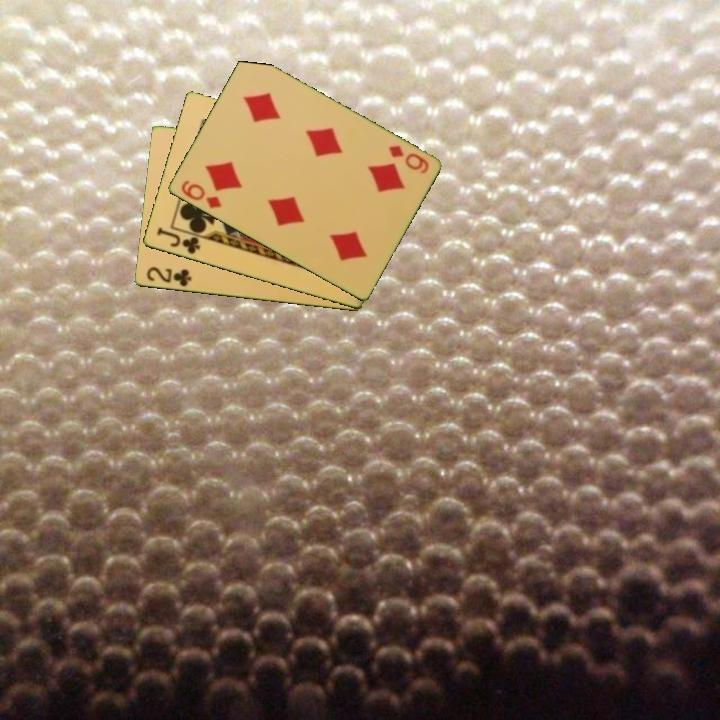2c: (143, 263, 194, 290)
6d: (177, 176, 224, 212), (384, 142, 431, 177)
Jc: (153, 224, 203, 257)
